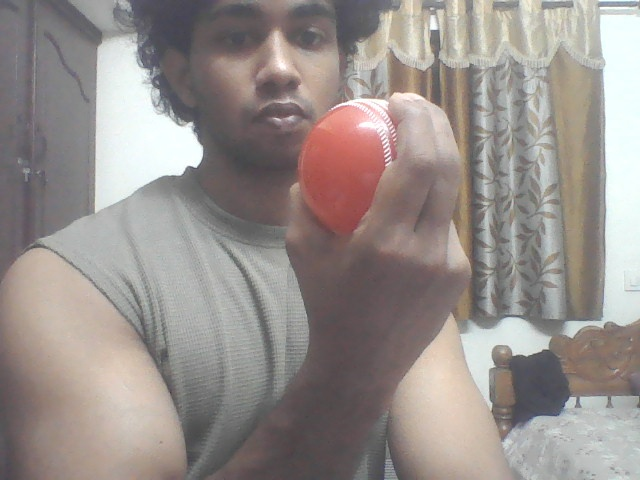cricket_ball: (296, 96, 407, 244)
